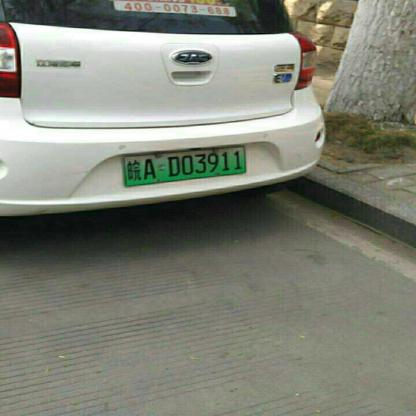lp: (123, 146, 244, 185)
